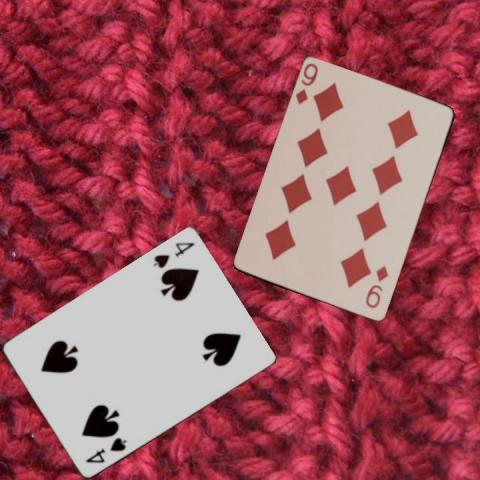4s: (149, 239, 196, 270), (82, 435, 128, 465)
9d: (363, 263, 390, 311), (293, 60, 320, 107)
